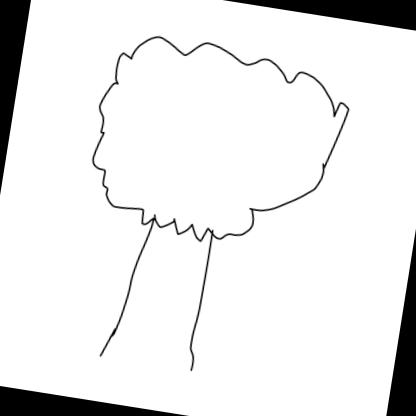crown_dizzy: (80, 26, 356, 262)
trunk_straight: (110, 235, 210, 352)
